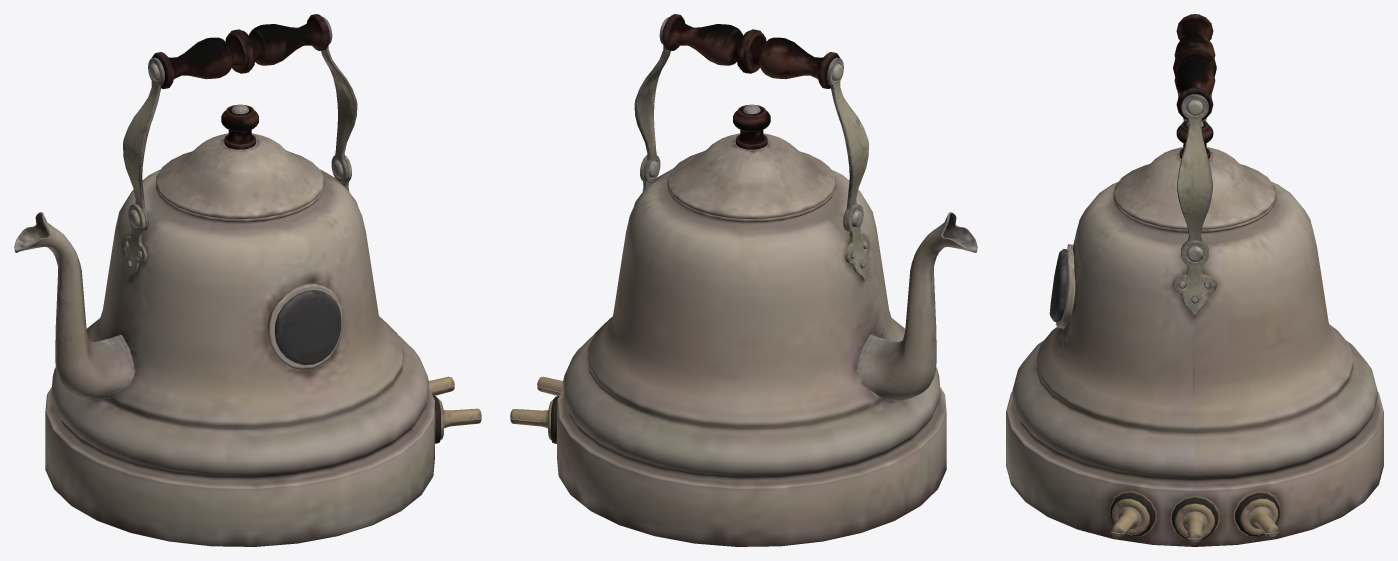
The model's file is kettle.glb.
3 renders of one model, left to right at view 1: azimuth 30°, elevation 25°; view 2: azimuth 150°, elevation 25°; view 3: azimuth 270°, elevation 25°, orthographic. The views are drawn at different scales.
Visible parts, largest first — view 1: vintage_electric_kettle; view 2: vintage_electric_kettle; view 3: vintage_electric_kettle.
Part boxes in pixels (box(x1,y1,x2,y2)): vintage_electric_kettle: box(14, 14, 481, 546); vintage_electric_kettle: box(510, 14, 977, 546); vintage_electric_kettle: box(1006, 14, 1383, 546).
Bounding box in the file's own units: 0.3209 × 0.3047 × 0.2486.
Materials: 2 (2 with a texture image).
